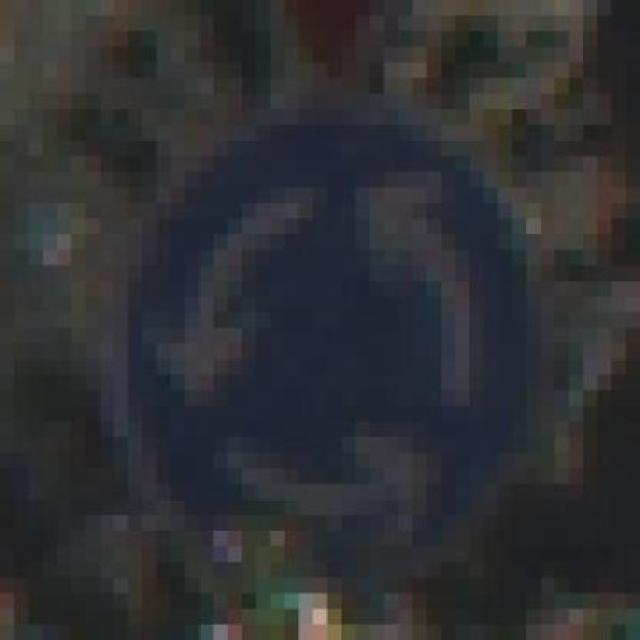Round-About: (86, 93, 554, 562)
